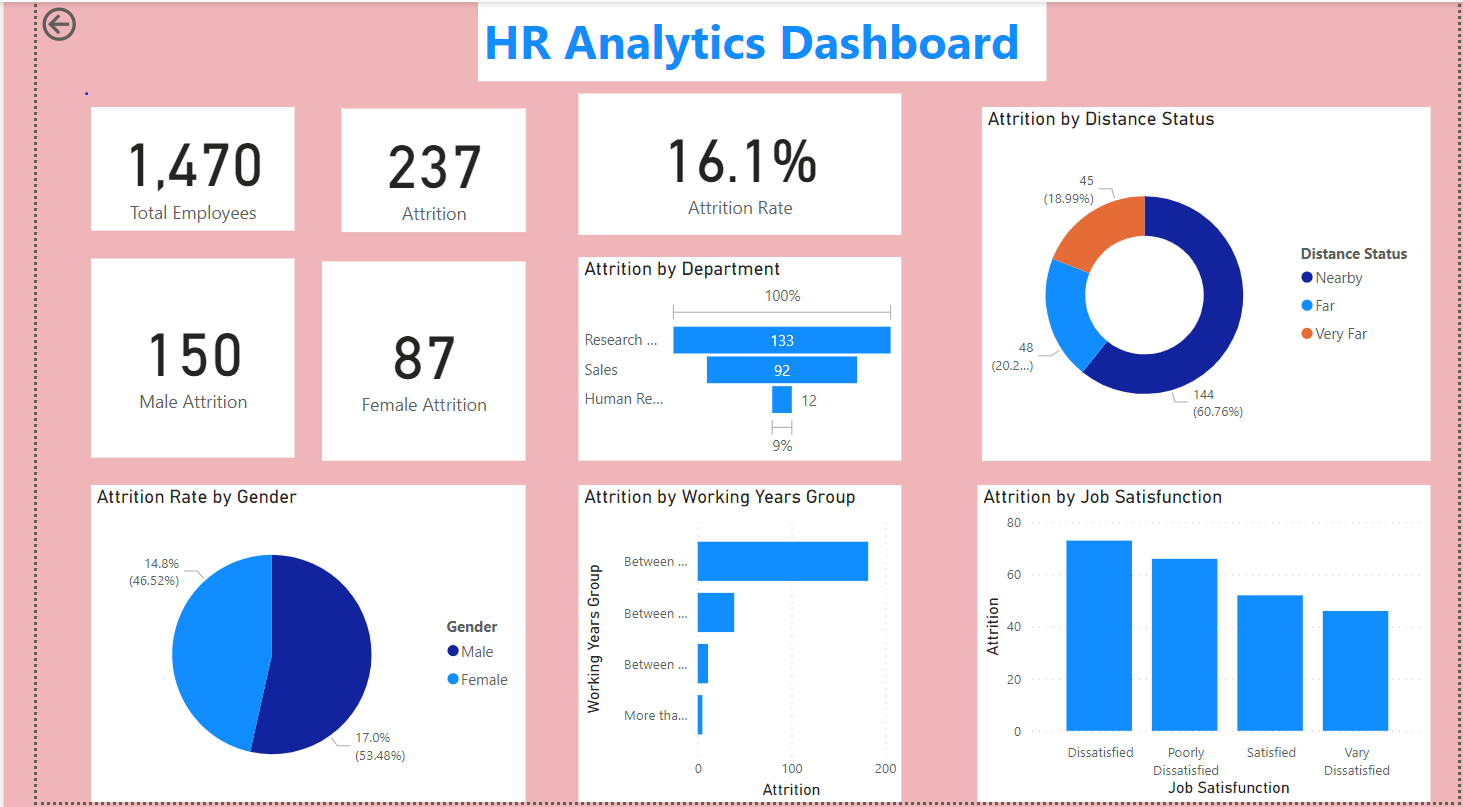

The page's visual inventory and layout, read from the dashboard file:
{"tool":"powerbi","page":{"name":"Page 1","canvas":[1280,720],"ordinal":0},"visuals":[{"type":"textbox","box":[397.1,0,512,71.6],"z":0},{"type":"card","title":"Total Employees","fields":{"Values":["All Measures.Attrition"]},"box":[274,96.4,166.3,111.5],"z":1000},{"type":"card","fields":{"Values":["All Measures.Total Employees"]},"box":[49.1,94.5,183.3,111.5],"z":2000},{"type":"actionButton","box":[0,0,100,40],"z":3000},{"type":"donutChart","fields":{"Category":["HR-Employee-Attrition.Distance Status"],"Y":["All Measures.Attrition"]},"box":[851,94.6,403.9,318.8],"z":4000},{"type":"clusteredBarChart","fields":{"Y":["All Measures.Attrition"],"Category":["HR-Employee-Attrition.Working Years Group"]},"box":[487.6,434.6,290.7,286.2],"z":5000},{"type":"clusteredColumnChart","fields":{"Y":["All Measures.Attrition"],"Category":["HR-Employee-Attrition.Job Satisfunction"]},"box":[847,435,408,285],"z":6000},{"type":"card","fields":{"Values":["All Measures.Attrition Rate"]},"box":[487.6,81.8,290.7,127.2],"z":7000},{"type":"card","fields":{"Values":["All Measures.Female Attrition"]},"box":[257,234.3,183.3,179.5],"z":8000},{"type":"card","fields":{"Values":["All Measures.Male Attrition"]},"box":[49.1,230.6,183.3,179.5],"z":9000},{"type":"pieChart","fields":{"Y":["All Measures.Attrition Rate"],"Category":["HR-Employee-Attrition.Gender"]},"box":[49.1,434.6,391.2,285.4],"z":10000},{"type":"funnel","fields":{"Category":["HR-Employee-Attrition.Department"],"Y":["All Measures.Attrition"]},"box":[487.6,230.2,290.7,183.2],"z":10001}]}

Visuals, with their boxes in screenshot pixels (x1, y1, x2, y2):
textbox: 474:0:1040:79
"Total Employees" card: 337:107:521:230
card - All Measures.Total Employees: 89:105:291:228
actionButton: 34:0:145:44
donutChart - HR-Employee-Attrition.Distance Status x All Measures.Attrition: 976:105:1423:457
clusteredBarChart - All Measures.Attrition x HR-Employee-Attrition.Working Years Group: 574:481:895:797
clusteredColumnChart - All Measures.Attrition x HR-Employee-Attrition.Job Satisfunction: 971:481:1423:797
card - All Measures.Attrition Rate: 574:90:895:231
card - All Measures.Female Attrition: 319:259:521:458
card - All Measures.Male Attrition: 89:255:291:454
pieChart - All Measures.Attrition Rate x HR-Employee-Attrition.Gender: 89:481:521:797
funnel - HR-Employee-Attrition.Department x All Measures.Attrition: 574:255:895:457
